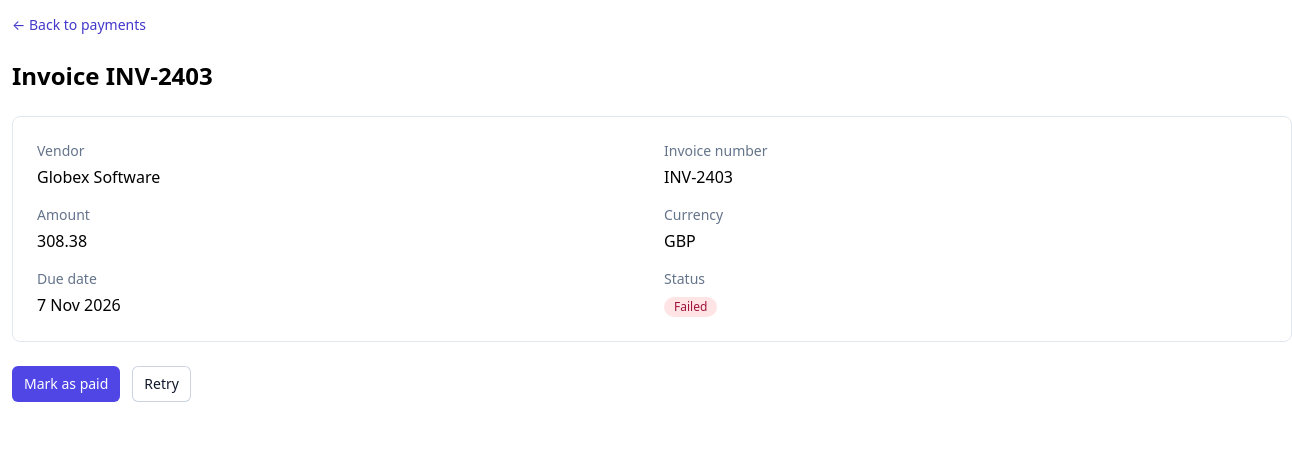
Test: PaymentDetailPage › retries a failed payment and shows it as scheduled
This screenshot has width=1292, height=465.
Click the button "Retry".
click(162, 384)  # box [132,366,191,402]
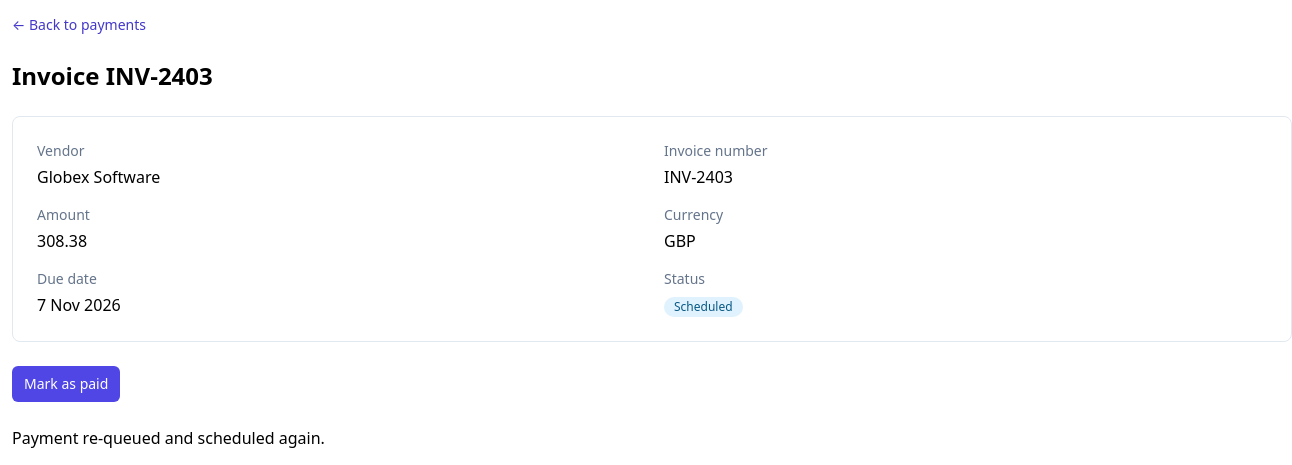
Now the text "Scheduled" is shown, box [664,297,743,317]
Now the button "Retry" is gone
